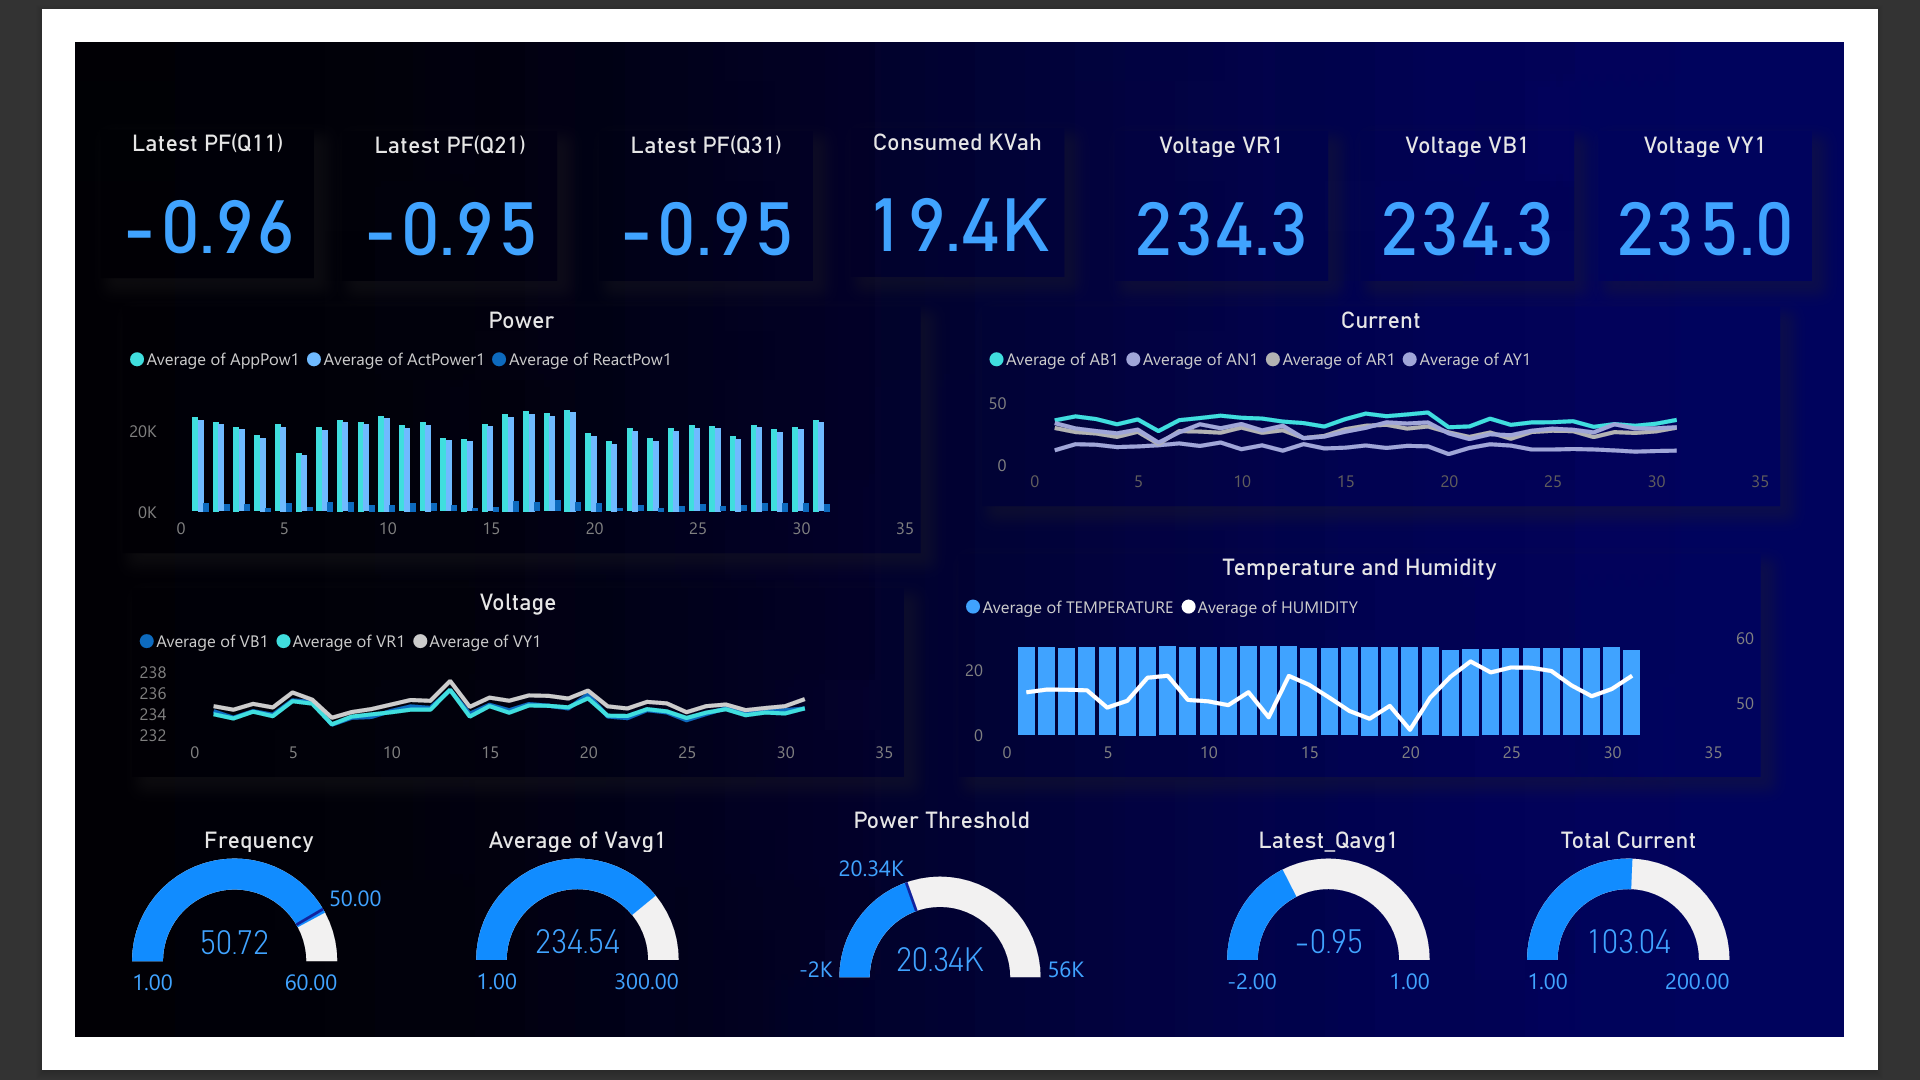

The page's visual inventory and layout, read from the dashboard file:
{"tool":"powerbi","page":{"name":"Energy Consumption for Mazgaon Gym","canvas":[1280,720],"ordinal":0},"visuals":[{"type":"gauge","title":"Total Current","fields":{"Y":["Avg(Data.Total_Current)"]},"box":[1008.6,566.7,230.5,134.5],"z":0},{"type":"lineChart","title":"Voltage","fields":{"Category":["Data.Time.Variation.Date Hierarchy.Day"],"Y":["Avg(Data.VB1)","Avg(Data.VR1)","Avg(Data.VY1)"]},"box":[41.2,395.2,558.5,137.2],"z":1000},{"type":"lineChart","title":"Current","fields":{"Category":["Data.Time.Variation.Date Hierarchy.Day"],"Y":["Avg(Data.AB1)","Avg(Data.AN1)","Avg(Data.AR1)","Avg(Data.AY1)"]},"box":[655.9,190.7,577.7,145.5],"z":2000},{"type":"clusteredColumnChart","title":"Power","fields":{"Category":["Data.Time.Variation.Date Hierarchy.Day"],"Y":["Avg(Data.AppPow1)","Avg(Data.ActPower1)","Avg(Data.ReactPow1)"]},"box":[34.3,190.7,577.7,179.8],"z":3000},{"type":"gauge","title":"Frequency","fields":{"Y":["Avg(Data.Freq1)"]},"box":[17.8,566.7,230,135],"z":4000},{"type":"gauge","fields":{"Y":["Avg(Data.Vavg1)"]},"box":[248.4,566.7,230.5,134.5],"z":5000},{"type":"gauge","fields":{"Y":["Data.Latest_Qavg1"]},"box":[791.8,566.7,230.5,134.5],"z":6000},{"type":"gauge","title":"Power Threshold","fields":{"Y":["Avg(Data.ActPower1)"],"MinValue":["Data.MinActPow"],"MaxValue":["Data.MaxActPow"],"TargetValue":["Data.Threshold"]},"box":[511.8,553,230.5,134.5],"z":7000},{"type":"card","title":"Latest PF(Q11)","fields":{"Values":["Data.Latest_Q11"]},"box":[17.8,63.1,155,108],"z":8000},{"type":"card","title":"Latest PF(Q21)","fields":{"Values":["Data.Latest_Q21"]},"box":[193.5,64.5,155.1,108.4],"z":9000},{"type":"card","title":"Latest PF(Q31)","fields":{"Values":["Data.Latest_Q31"]},"box":[378.7,64.5,155.1,108.4],"z":10000},{"type":"card","title":"Voltage VB1","fields":{"Values":["Avg(Data.VB1)"]},"box":[930.4,64.5,155.1,108.4],"z":11000},{"type":"card","title":"Voltage VR1","fields":{"Values":["Avg(Data.VR1)"]},"box":[752,64.5,155.1,108.4],"z":12000},{"type":"card","title":"Voltage VY1","fields":{"Values":["Avg(Data.VY1)"]},"box":[1101.9,64.5,155.1,108.4],"z":13000},{"type":"card","title":"Consumed KVah","fields":{"Values":["Data.Consumed_kVAh"]},"box":[561.2,61.7,155.1,108.4],"z":14000},{"type":"lineStackedColumnComboChart","title":"Temperature and Humidity","fields":{"Category":["Data.Time.Variation.Date Hierarchy.Day"],"Y":["Avg(Data.TEMPERATURE)"],"Y2":["Avg(Data.HUMIDITY)"]},"box":[639.5,370.5,580.4,161.9],"z":15000}]}

Visuals, with their boxes in screenshot pixels (x1, y1, x2, y2), scaled from the page's 1280x720 canvas onto the 1920x1080 screenshot:
"Total Current" gauge: (left=1513, top=850, right=1859, bottom=1052)
"Voltage" lineChart: (left=62, top=593, right=900, bottom=799)
"Current" lineChart: (left=984, top=286, right=1850, bottom=504)
"Power" clusteredColumnChart: (left=51, top=286, right=918, bottom=556)
"Frequency" gauge: (left=27, top=850, right=372, bottom=1053)
gauge - Avg(Data.Vavg1): (left=373, top=850, right=718, bottom=1052)
gauge - Data.Latest_Qavg1: (left=1188, top=850, right=1533, bottom=1052)
"Power Threshold" gauge: (left=768, top=830, right=1113, bottom=1031)
"Latest PF(Q11)" card: (left=27, top=95, right=259, bottom=257)
"Latest PF(Q21)" card: (left=290, top=97, right=523, bottom=259)
"Latest PF(Q31)" card: (left=568, top=97, right=801, bottom=259)
"Voltage VB1" card: (left=1396, top=97, right=1628, bottom=259)
"Voltage VR1" card: (left=1128, top=97, right=1361, bottom=259)
"Voltage VY1" card: (left=1653, top=97, right=1886, bottom=259)
"Consumed KVah" card: (left=842, top=93, right=1074, bottom=255)
"Temperature and Humidity" lineStackedColumnComboChart: (left=959, top=556, right=1830, bottom=799)
